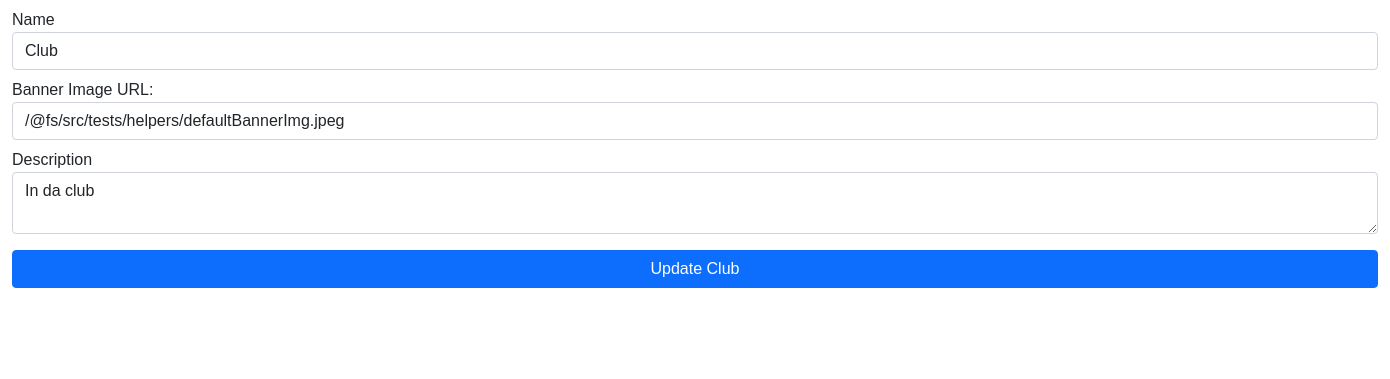
Test: EditClubForm › Shows error on failed submit
Replace the text in the field labelled "Banner Image URL:" with "http://example.com/example.jpg" at (695, 121), box [12,102,1378,140]
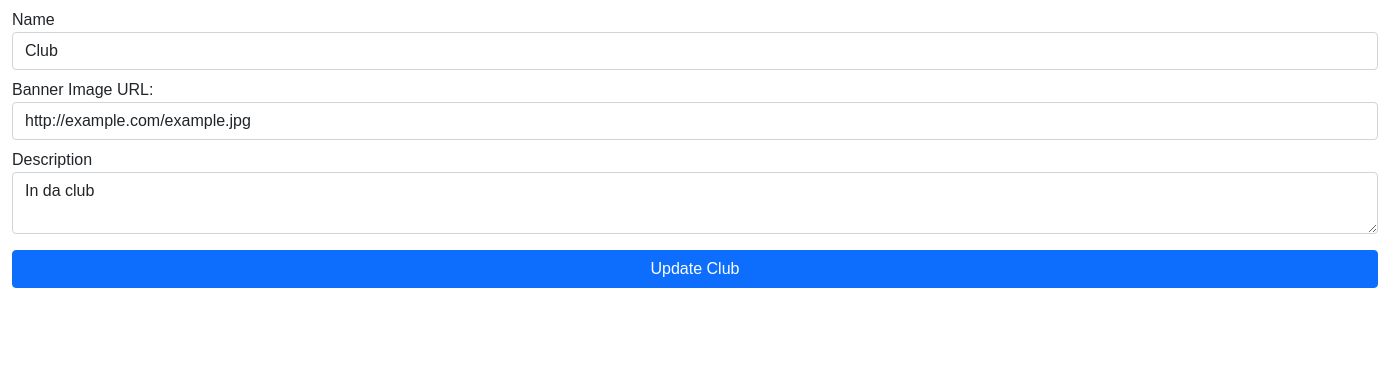
Click the button "Update Club" at (695, 269), box [12,250,1378,288]
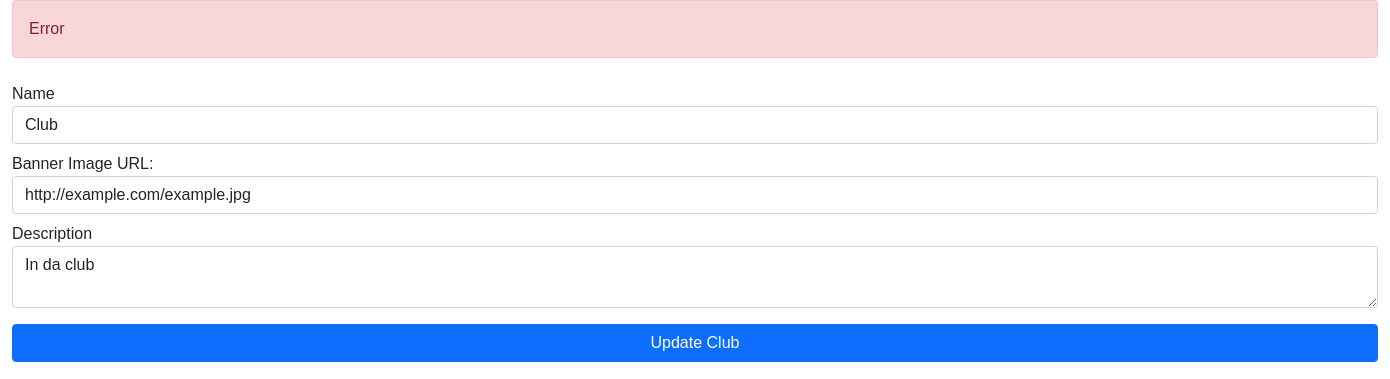
Expected: the text "Error" is shown, [12,0,1378,58]
